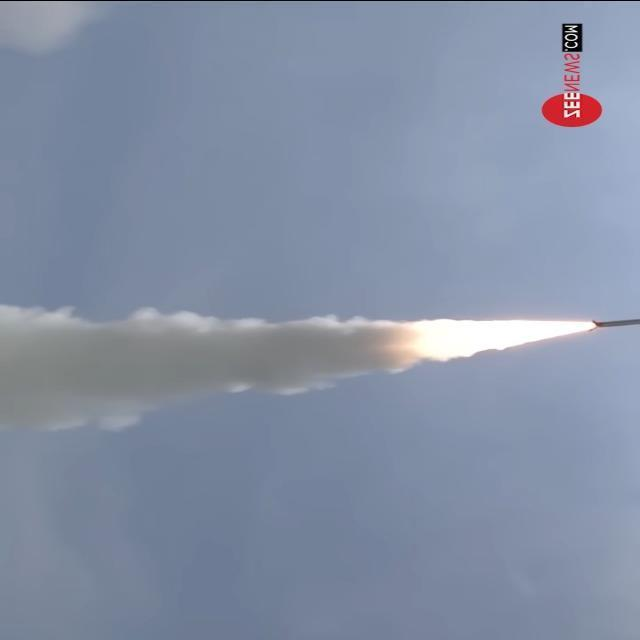missile: (595, 316, 639, 334)
